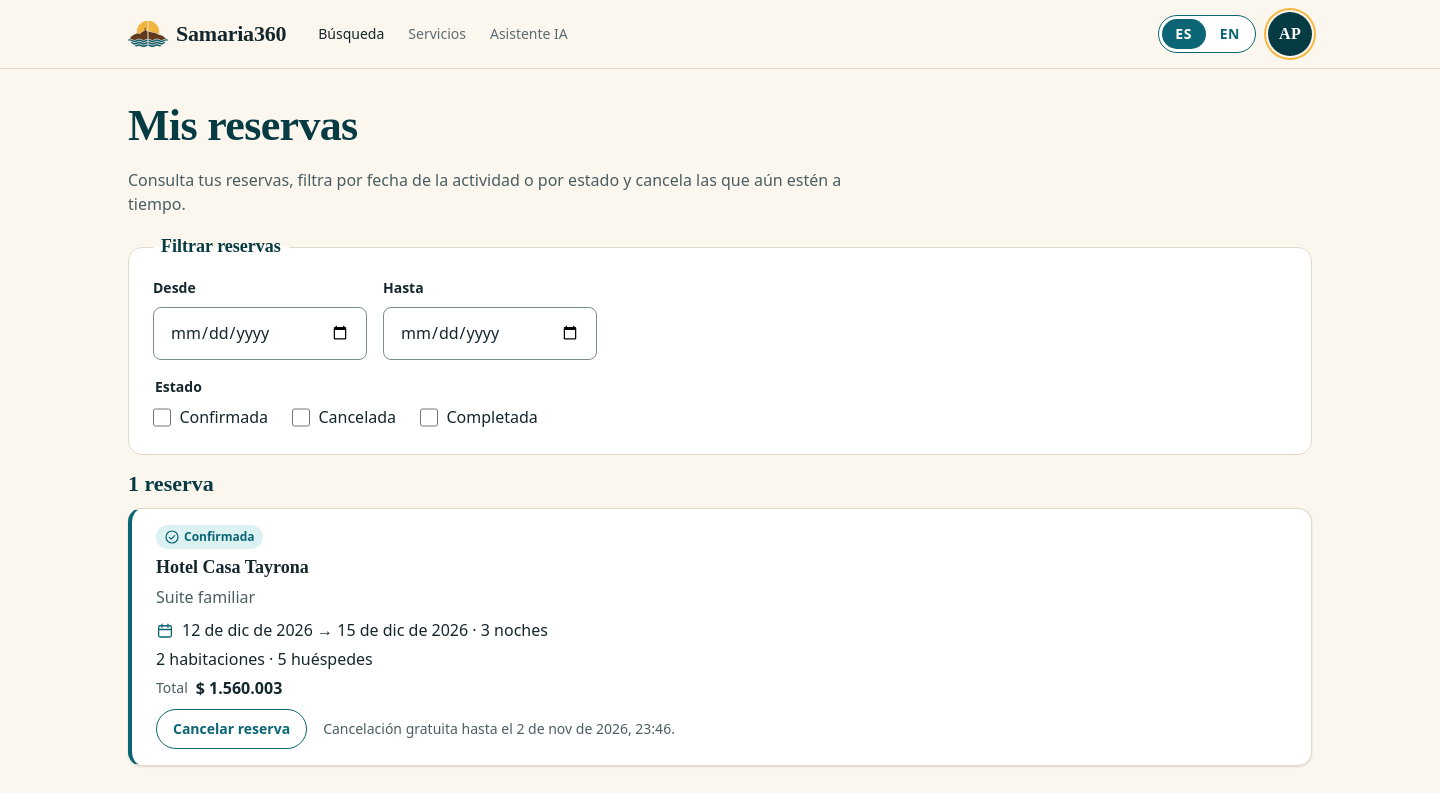
Test case: WF-11 «Mis reservas»: cancelar (RF18, RF44) › al cancelar, la tarjeta pasa a Cancelada, se anuncia y el foco va a su título
This screenshot has width=1440, height=793.
Step 1. Click the button "Cancelar reserva" → coordinates (232, 729), box x1=156 y1=709 x2=307 y2=749
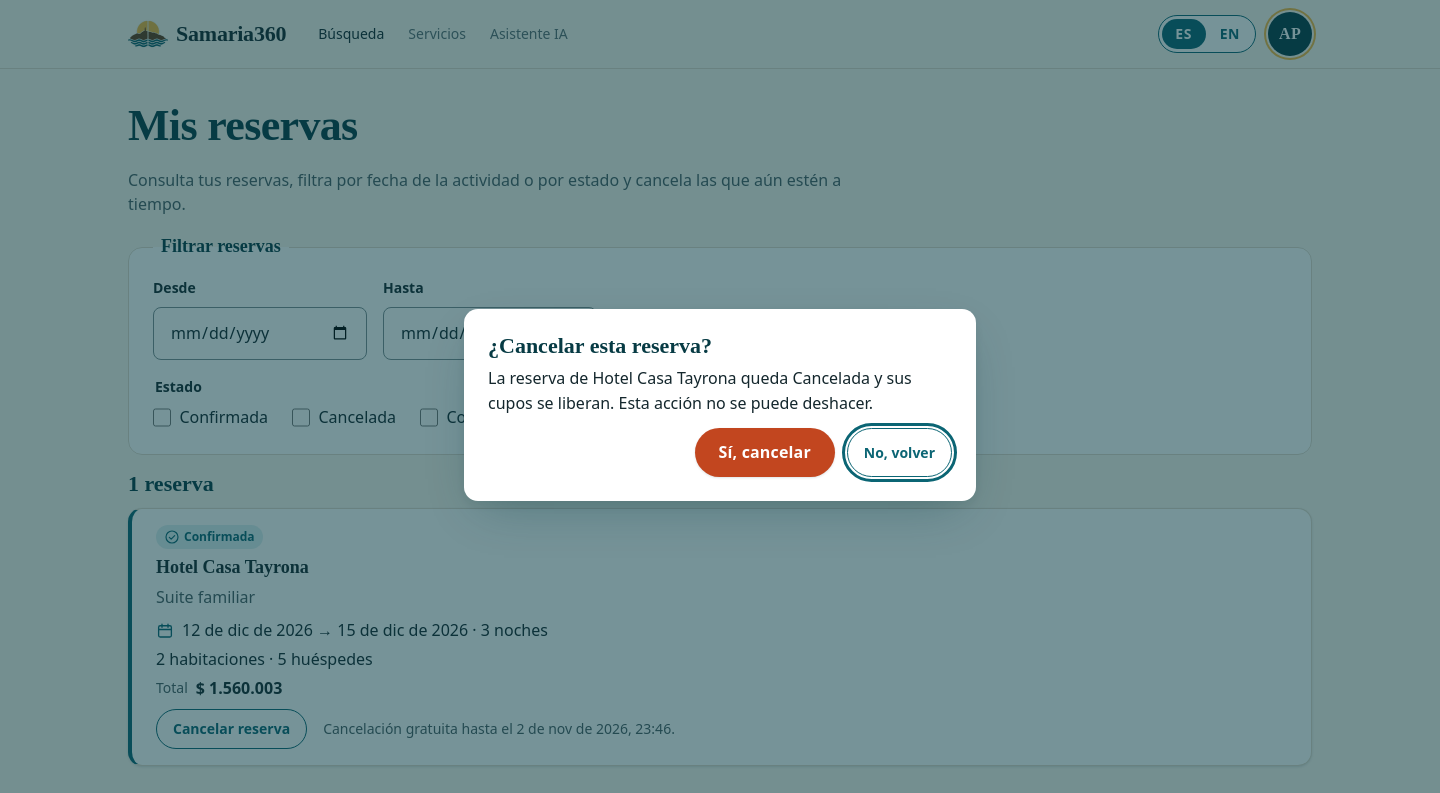
Step 2. Click the button "Sí, cancelar" → coordinates (765, 452), box x1=695 y1=428 x2=835 y2=477
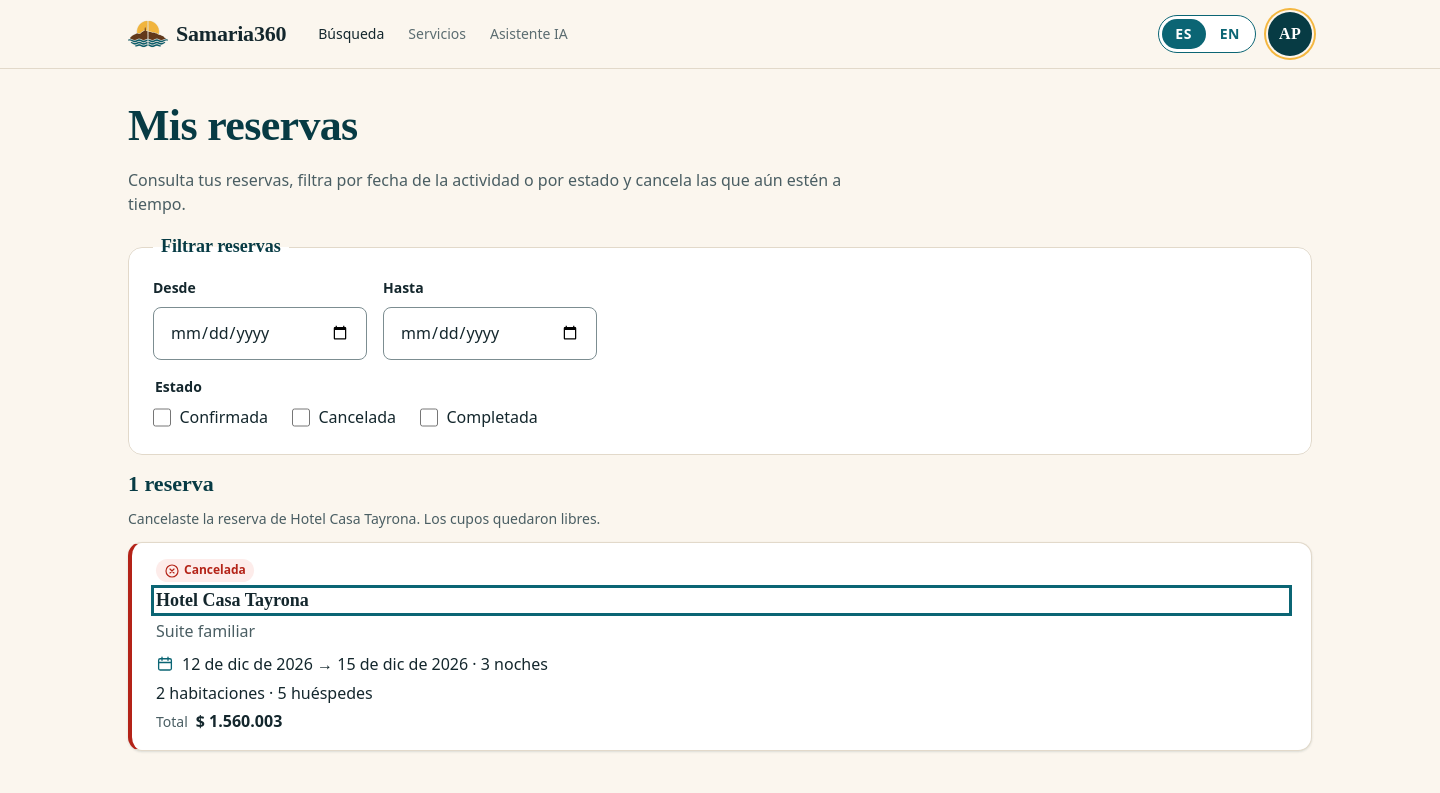
Expected: the text "Cancelada" is shown, x1=156 y1=559 x2=254 y2=582
Expected: the button "Cancelar reserva" is gone
Expected: the dialog is gone
